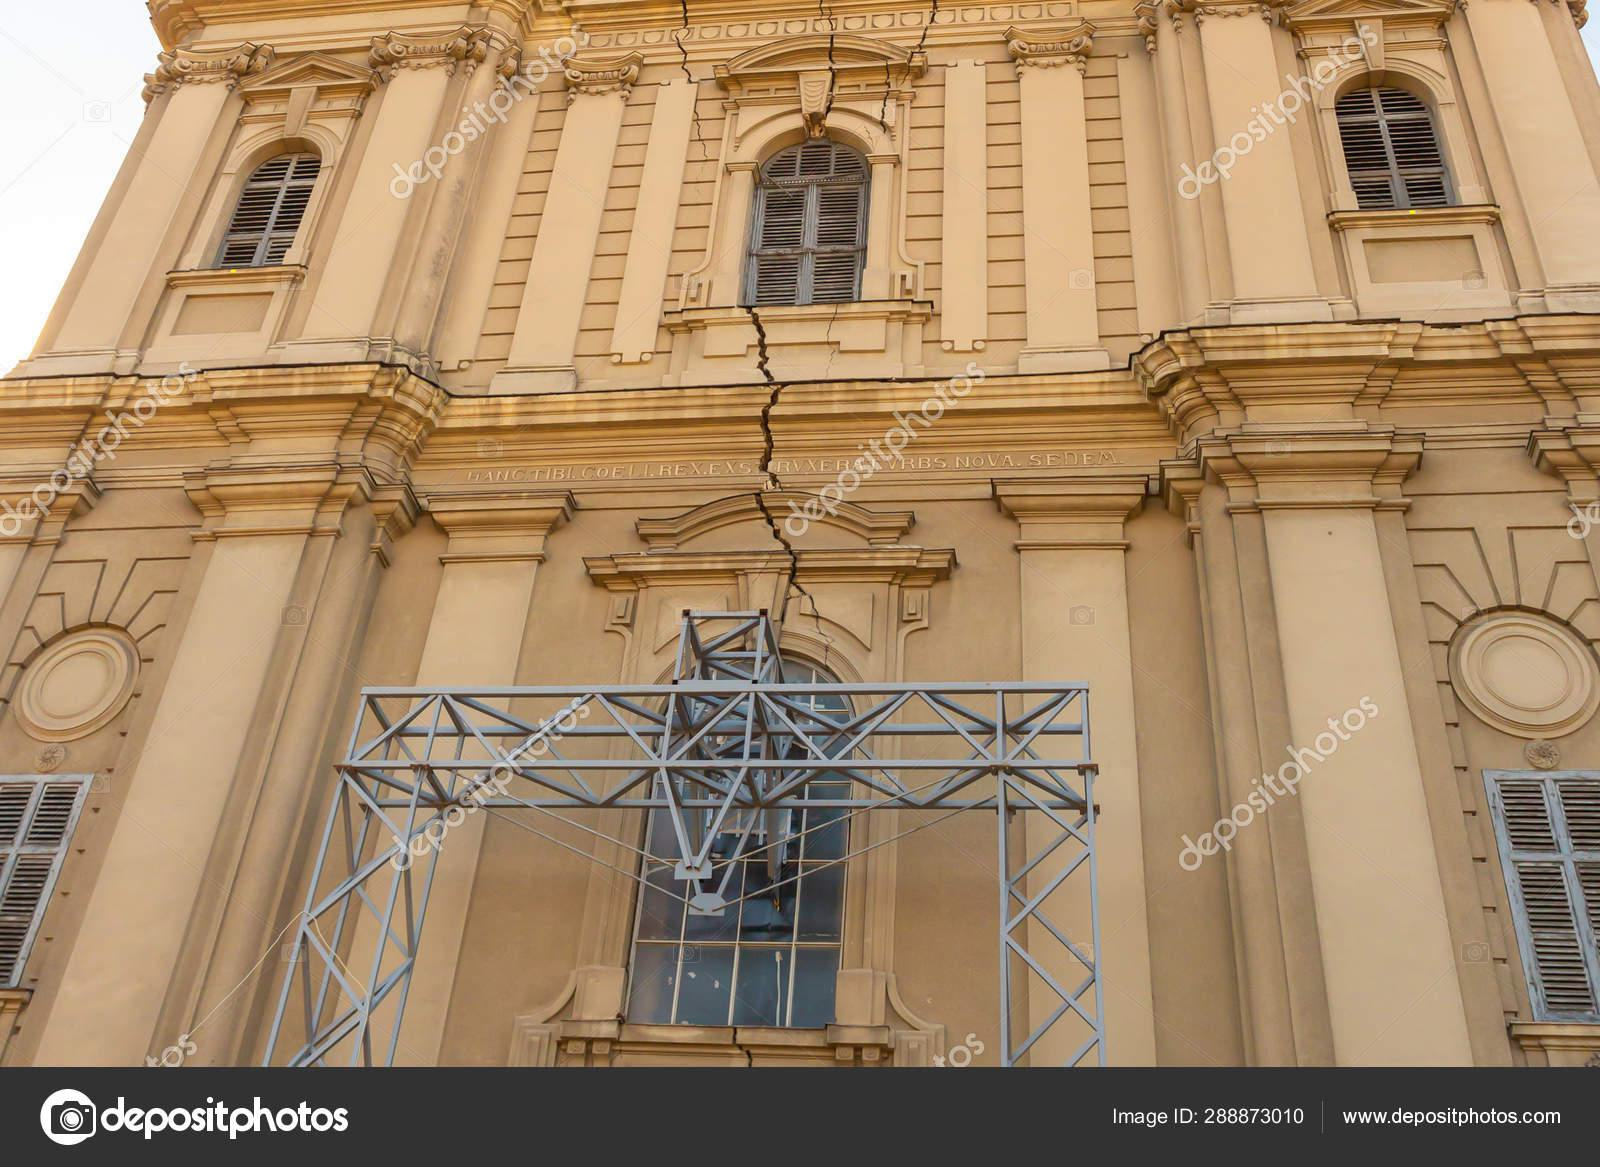crack: (730, 304, 795, 410), (665, 1, 718, 118), (744, 437, 796, 556), (807, 10, 853, 132), (899, 1, 949, 85)
